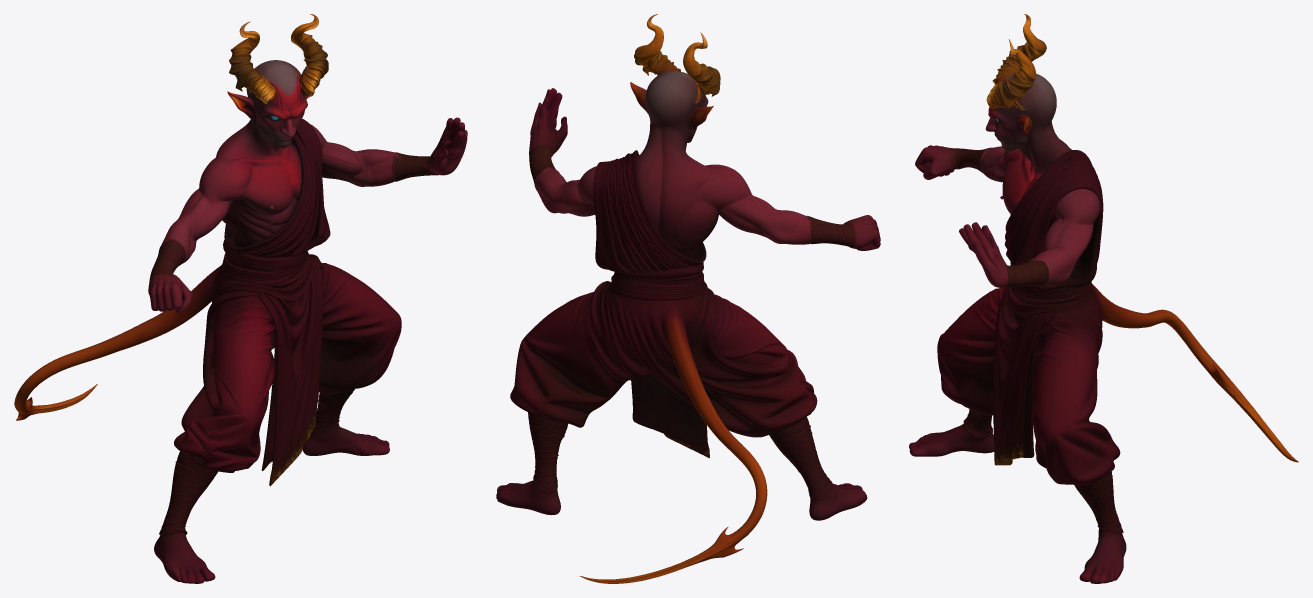
Rendered from tiefling_monk_full_male_01.glb.
3 renders of one model, left to right at view 1: azimuth 30°, elevation 25°; view 2: azimuth 150°, elevation 25°; view 3: azimuth 270°, elevation 25°, orthographic. The views are drawn at different scales.
Parts seen in each view (by area): view 1: material; view 2: material; view 3: material.
Boxes of the visible parts, x1,y1,x2,y2 form: material: [14, 14, 467, 583]; material: [496, 14, 880, 583]; material: [909, 14, 1298, 583].
Bounding box in the file's own units: 0.6474 × 0.8906 × 0.6456.
1 material, 1 textured.
